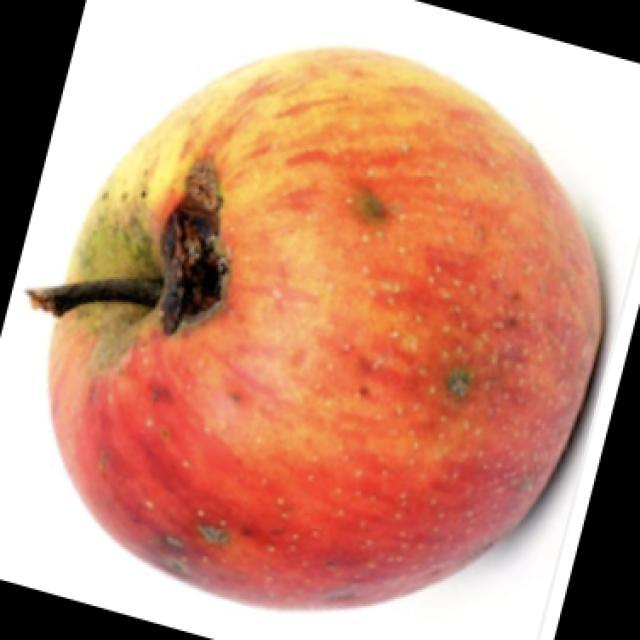Rotten: (46, 75, 582, 597)
